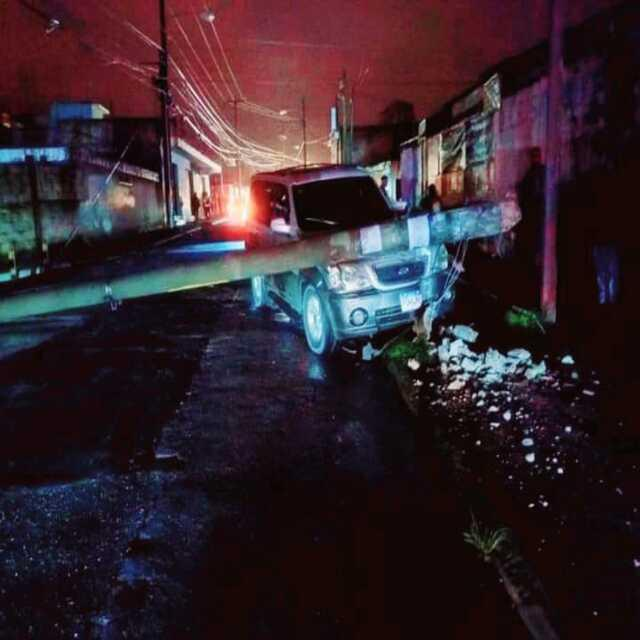Inclined Pole: (0, 196, 529, 322)
